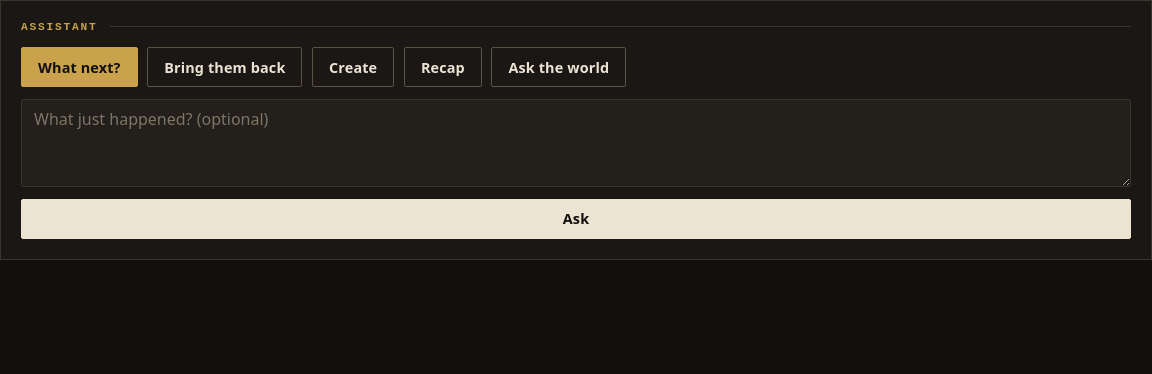
Test: AssistantPanel › asks for the next beat without a note
Click the button with test id "ai-ask". click: (576, 219)
box: x1=21 y1=199 x2=1131 y2=239
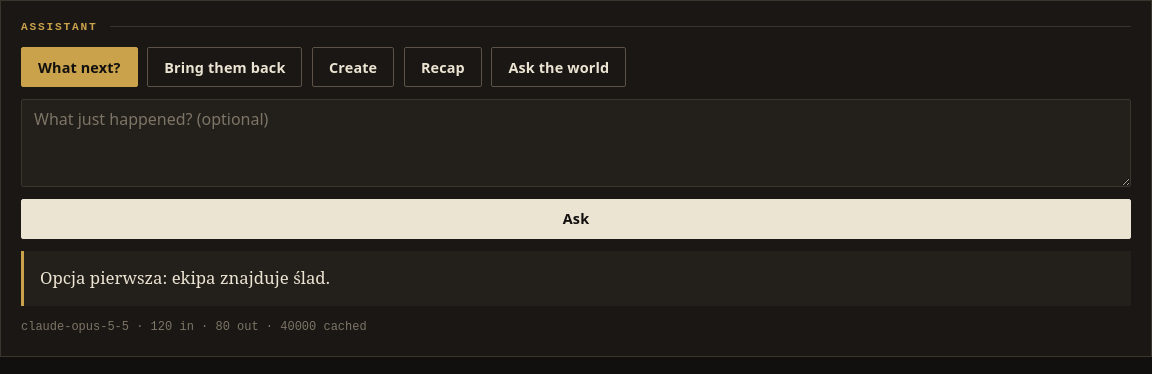
Result: the text "Opcja pierwsza: ekipa znajduje ślad." is shown at x1=21 y1=251 x2=1131 y2=306
